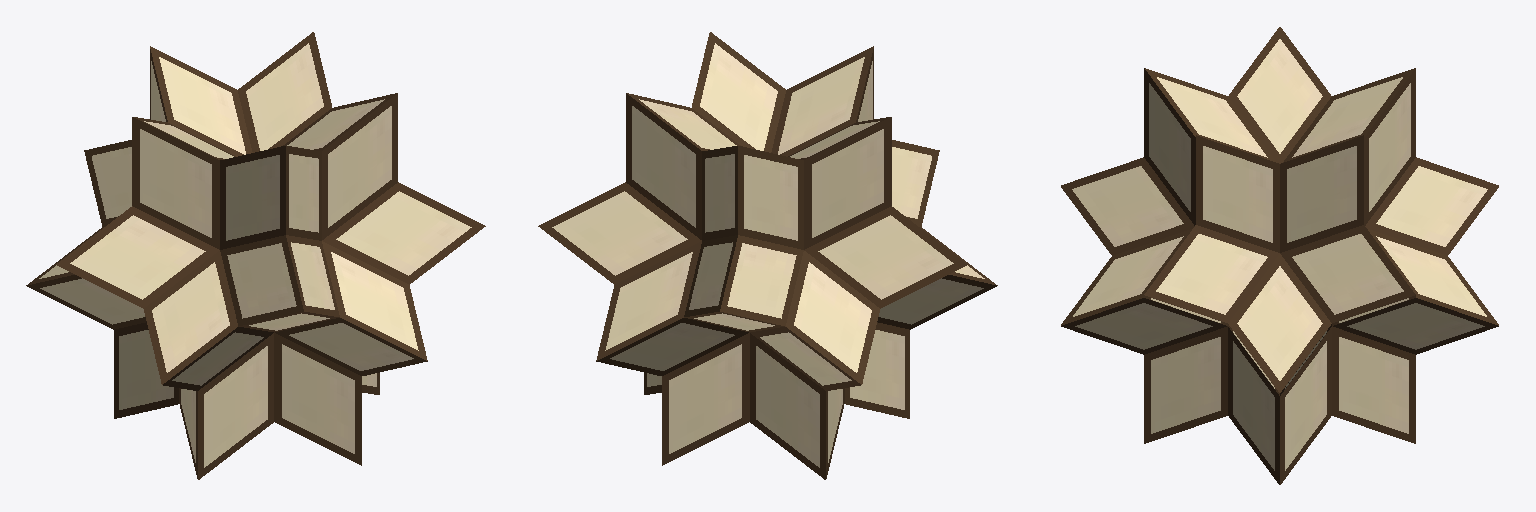
3 views of the same model, side by side, from view 1: azimuth 30°, elevation 25°; view 2: azimuth 150°, elevation 25°; view 3: azimuth 270°, elevation 25° (orthographic).
Visible parts, largest first — view 1: Mesh1 Model; view 2: Mesh1 Model; view 3: Mesh1 Model.
Part boxes in pixels (x1,y1,x2,y2): Mesh1 Model: (26, 32, 485, 479); Mesh1 Model: (538, 32, 997, 479); Mesh1 Model: (1061, 27, 1498, 484).
Size of the model in its own units: 4454 by 3603 by 4236.
Materials: 1 (1 with a texture image).